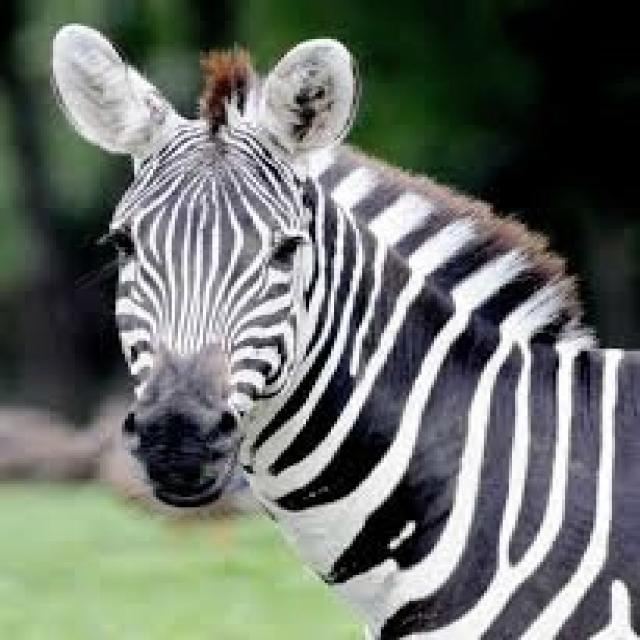zebra: (53, 23, 637, 637)
